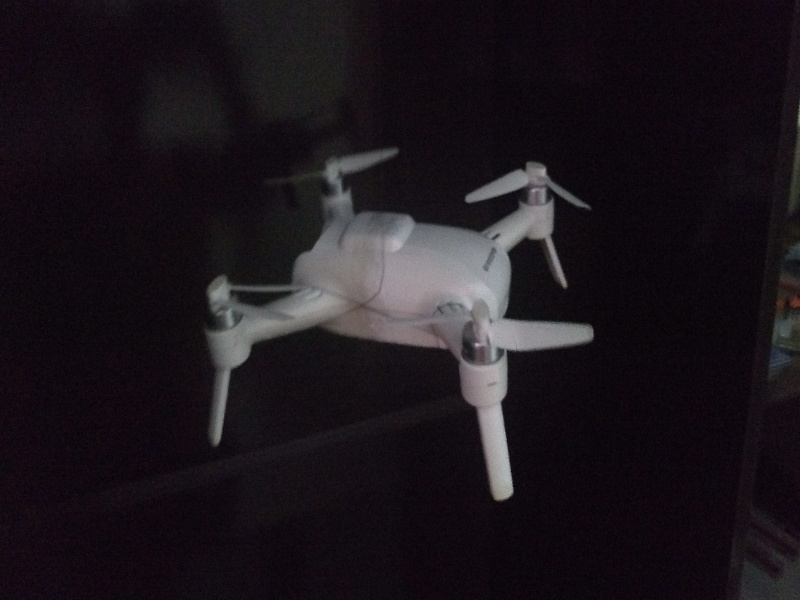drone: (189, 146, 604, 504)
